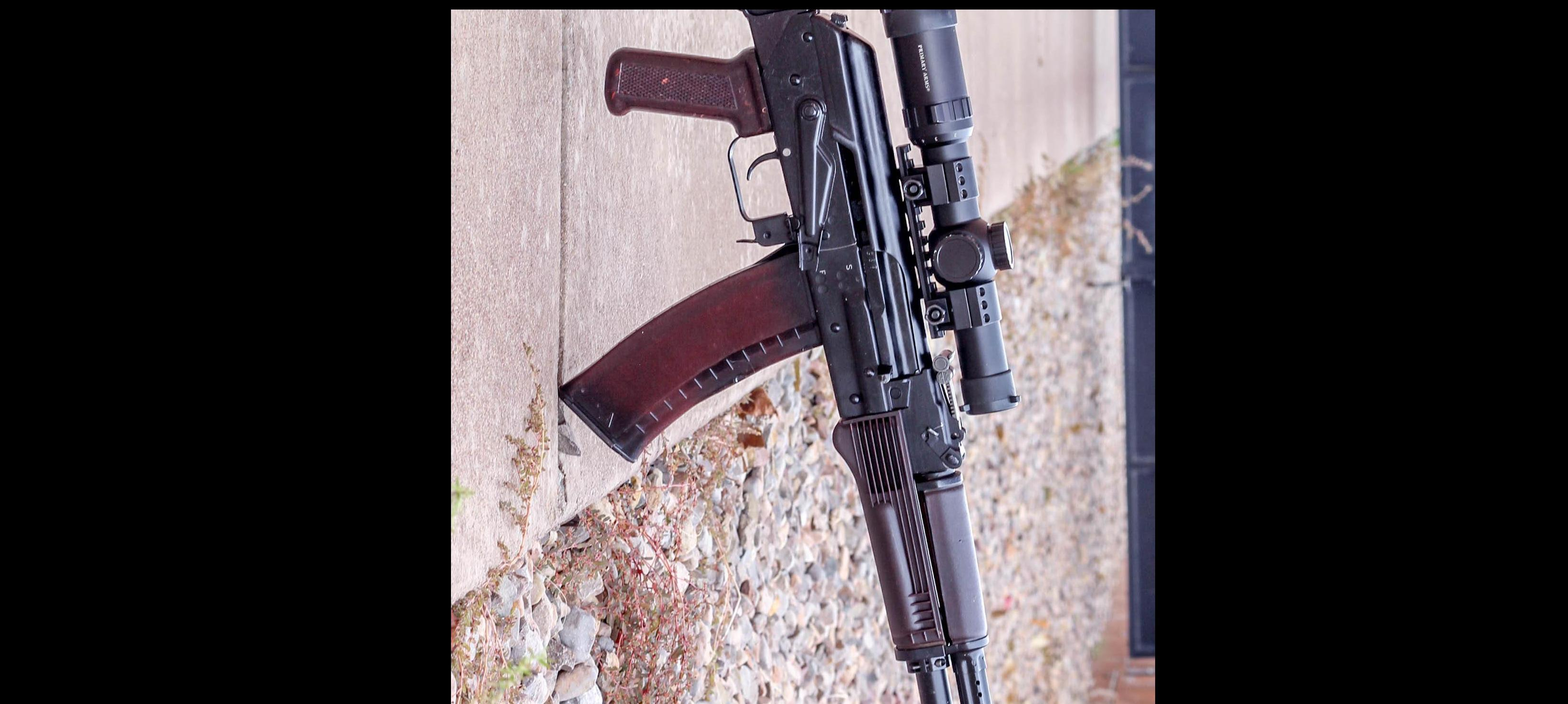larga: (558, 9, 1023, 704)
